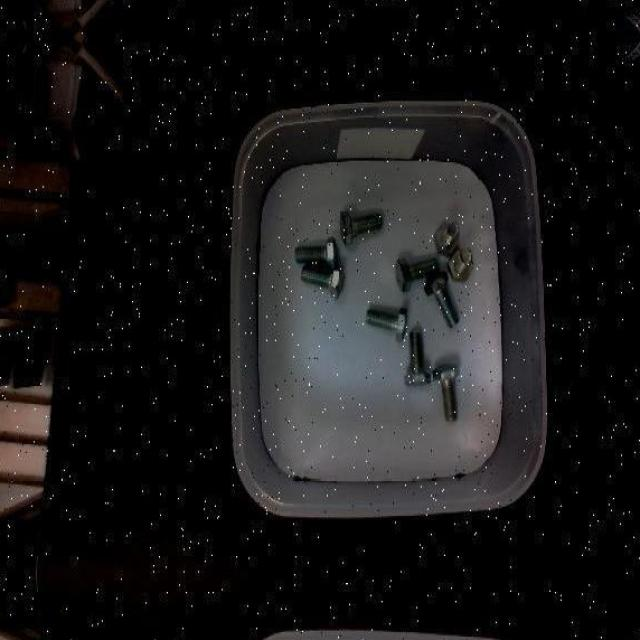screw: (423, 271, 459, 329), (404, 331, 432, 387), (294, 236, 337, 272), (395, 258, 440, 292), (432, 364, 459, 420), (339, 210, 383, 244), (301, 264, 345, 297), (366, 306, 407, 341), (433, 221, 460, 253), (449, 248, 474, 280)
